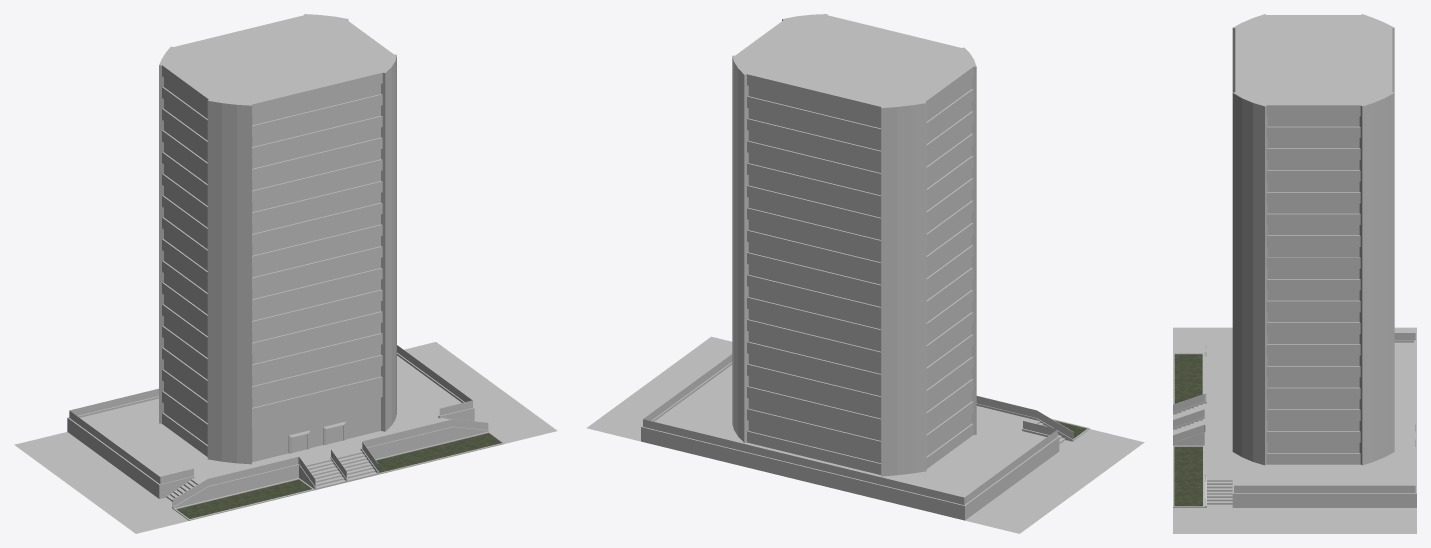
3 renders of one model, left to right at view 1: azimuth 30°, elevation 25°; view 2: azimuth 150°, elevation 25°; view 3: azimuth 270°, elevation 25°, orthographic. The views are drawn at different scales.
Parts seen in each view (by area): view 1: BC-032, BC-032-Base; view 2: BC-032, BC-032-Base; view 3: BC-032, BC-032-Base.
Boxes of the visible parts, box(x1,y1,x2,y2) form: BC-032: box(159, 14, 396, 464); BC-032-Base: box(14, 342, 557, 533); BC-032: box(732, 14, 976, 476); BC-032-Base: box(586, 336, 1144, 533); BC-032: box(1232, 14, 1394, 465); BC-032-Base: box(1173, 327, 1416, 533).
Size of what is drawn, in the model's own units: 72 by 60.46 by 36.
